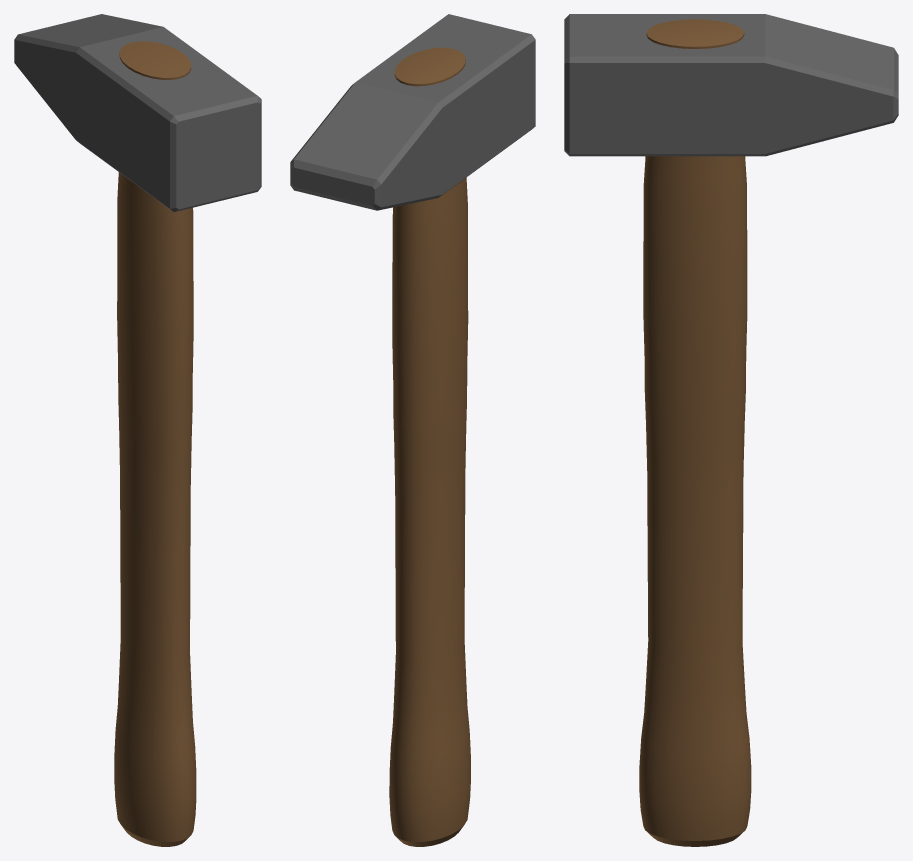
File: Hammer_V1.fbx
The picture shows the model from 3 angles, left to right: view 1: azimuth 30°, elevation 25°; view 2: azimuth 150°, elevation 25°; view 3: azimuth 270°, elevation 25°; orthographic projection. The views are drawn at different scales.
Visible parts, largest first — view 1: Hammer_Handle, Hammer_Head; view 2: Hammer_Handle, Hammer_Head; view 3: Hammer_Handle, Hammer_Head.
Part boxes in pixels (bbox=[...]): Hammer_Handle: bbox=[114, 41, 196, 846]; Hammer_Head: bbox=[14, 14, 261, 212]; Hammer_Handle: bbox=[389, 47, 470, 846]; Hammer_Head: bbox=[290, 14, 535, 210]; Hammer_Handle: bbox=[639, 19, 751, 846]; Hammer_Head: bbox=[564, 14, 898, 156].
Bounding box in the file's own units: 200 × 1606 × 606.
